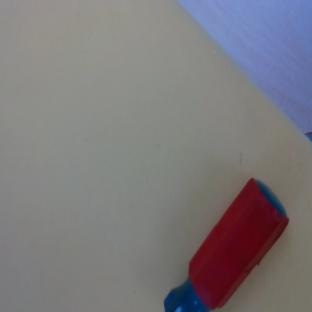part_2_good: (158, 175, 299, 312)
